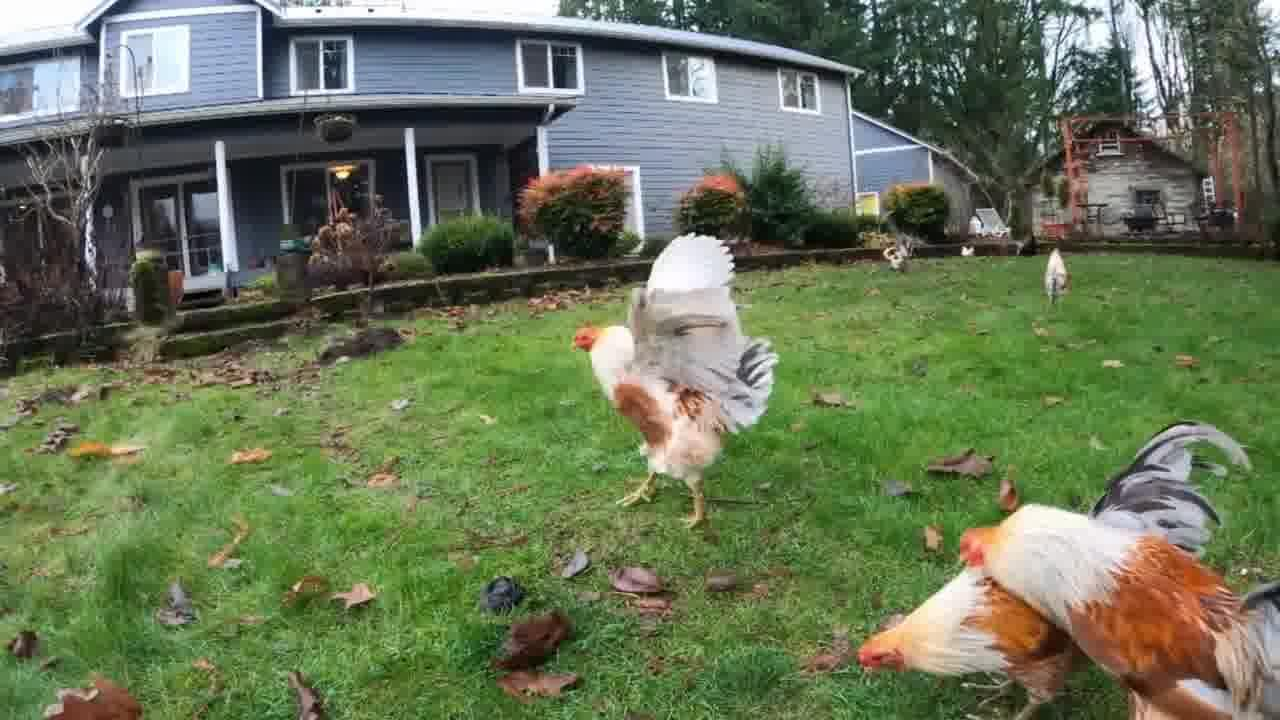Normal: (858, 440, 1202, 710), (950, 496, 1280, 706), (570, 228, 788, 524), (1016, 224, 1102, 300)
